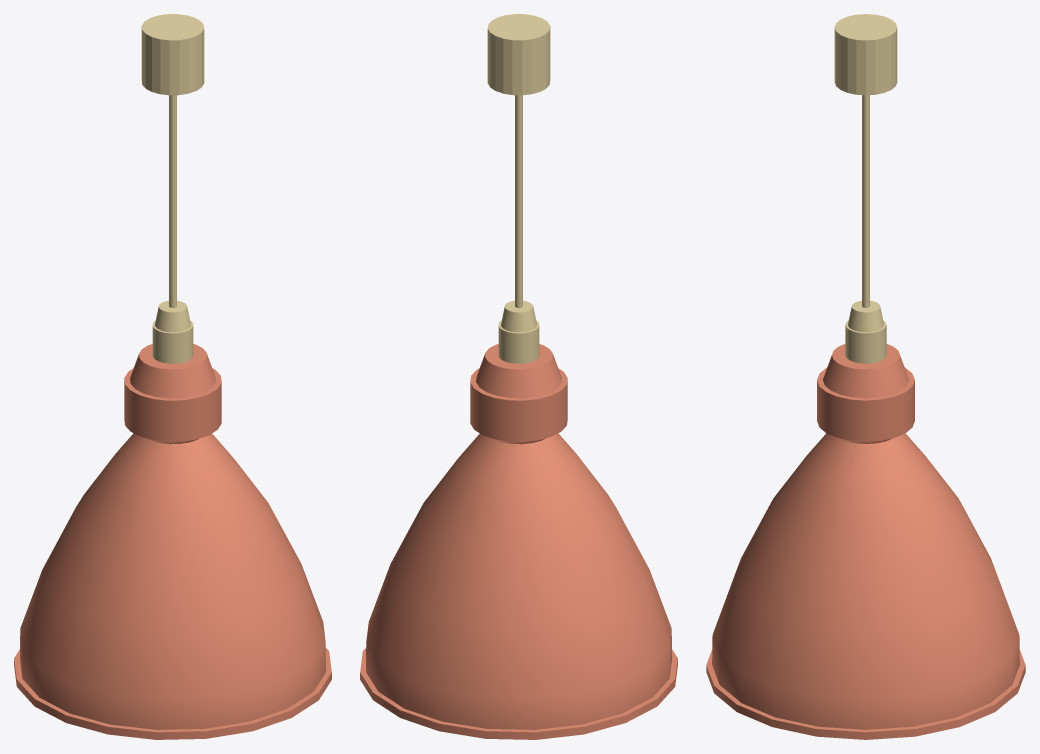
File: lampA.fbx
3 views of the same model, side by side, from view 1: azimuth 30°, elevation 25°; view 2: azimuth 150°, elevation 25°; view 3: azimuth 270°, elevation 25° (orthographic).
Visible parts, largest first — view 1: lampA; view 2: lampA; view 3: lampA.
Boxes of the visible parts, x1,y1,x2,y2 form: lampA: [14, 14, 331, 739]; lampA: [360, 14, 677, 739]; lampA: [706, 14, 1025, 739].
Bounding box in the file's own units: 79.08 × 176 × 79.08.
